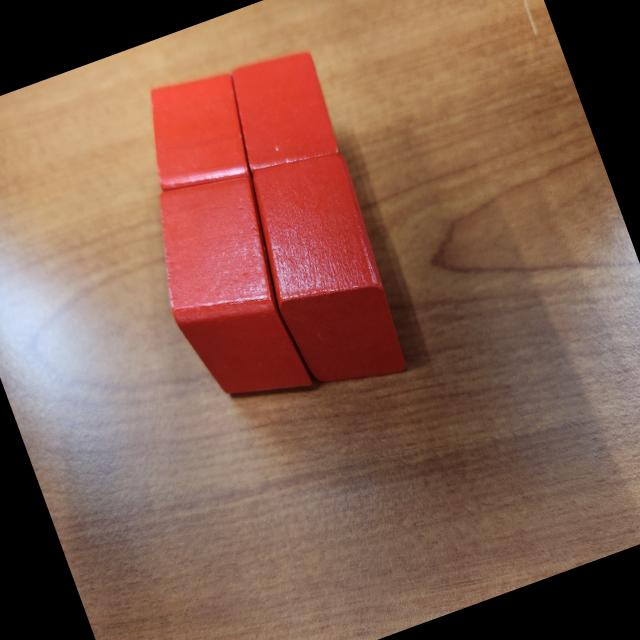red: (130, 160, 327, 426), (230, 139, 421, 405), (126, 59, 272, 220), (212, 41, 348, 186)
